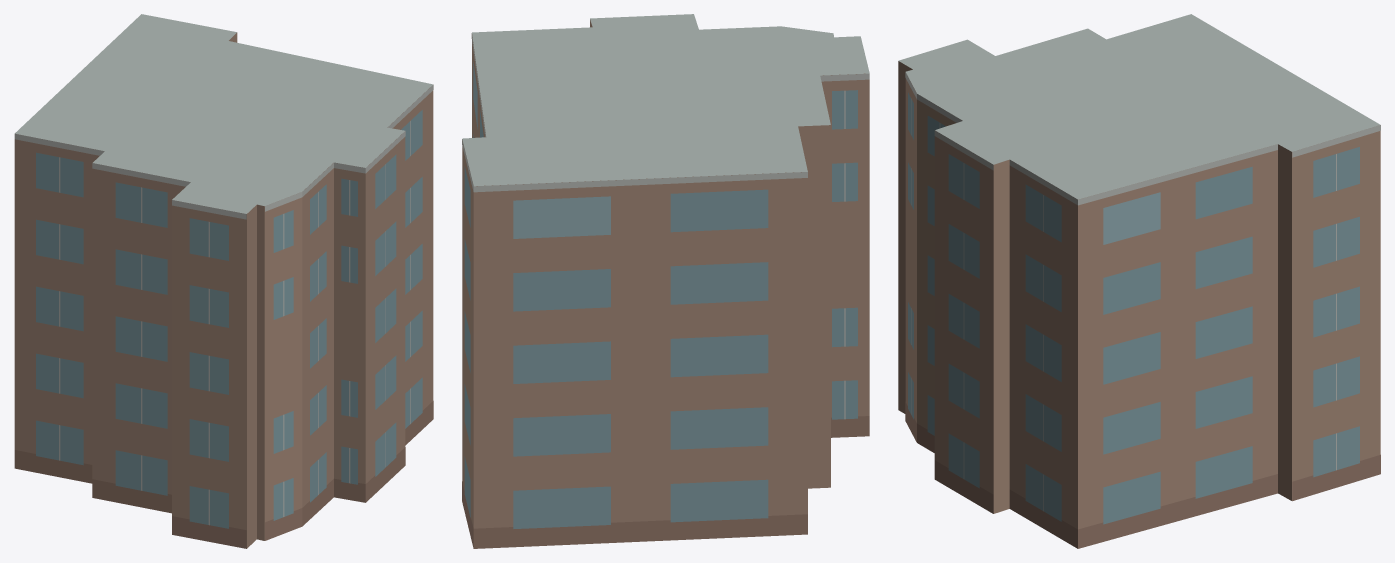
Rendered from survey-upis-32777077.glb.
3 renders of one model, left to right at view 1: azimuth 30°, elevation 25°; view 2: azimuth 150°, elevation 25°; view 3: azimuth 270°, elevation 25°, orthographic. The views are drawn at different scales.
Visible parts, largest first — view 1: survey-upis-32777077.tmp; view 2: survey-upis-32777077.tmp; view 3: survey-upis-32777077.tmp.
Part boxes in pixels (bbox=[...]): survey-upis-32777077.tmp: bbox=[14, 14, 433, 548]; survey-upis-32777077.tmp: bbox=[462, 14, 869, 548]; survey-upis-32777077.tmp: bbox=[898, 14, 1380, 548].
Size of the model in its own units: 16.59 by 14.55 by 18.23.
